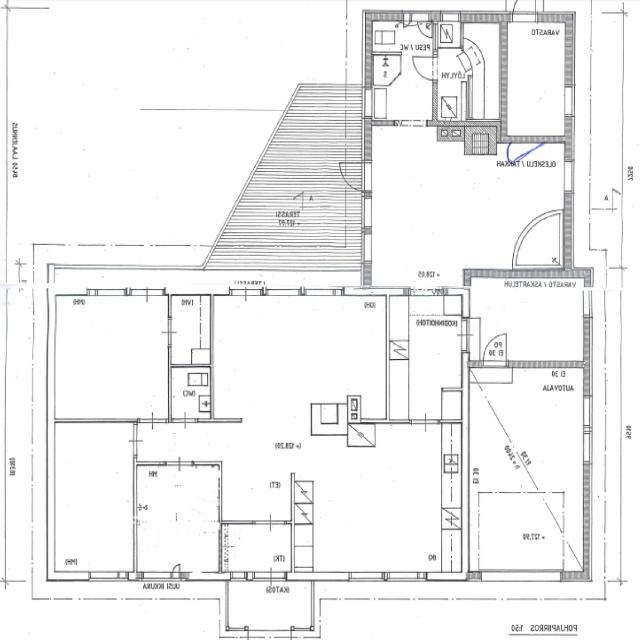door: (337, 162, 372, 192), (514, 135, 540, 174), (484, 334, 508, 367), (412, 57, 437, 80), (513, 0, 536, 22)
